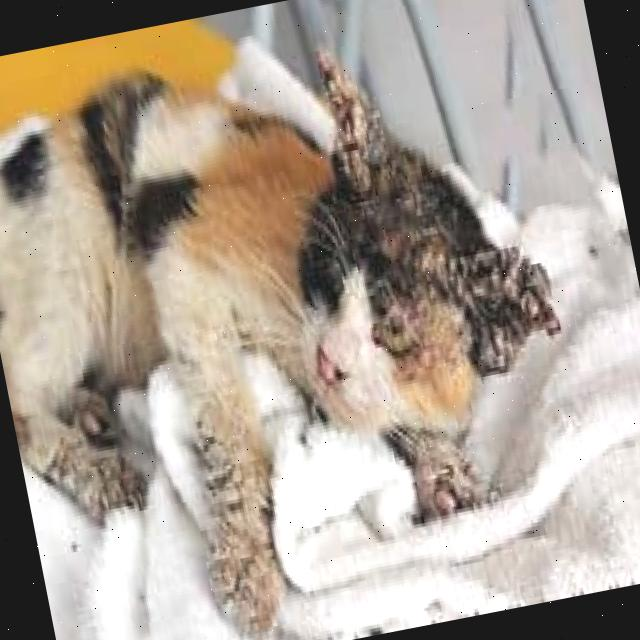cat-scabies: (182, 401, 294, 638), (460, 249, 552, 355), (68, 452, 144, 520), (328, 89, 380, 180), (416, 444, 469, 511)
